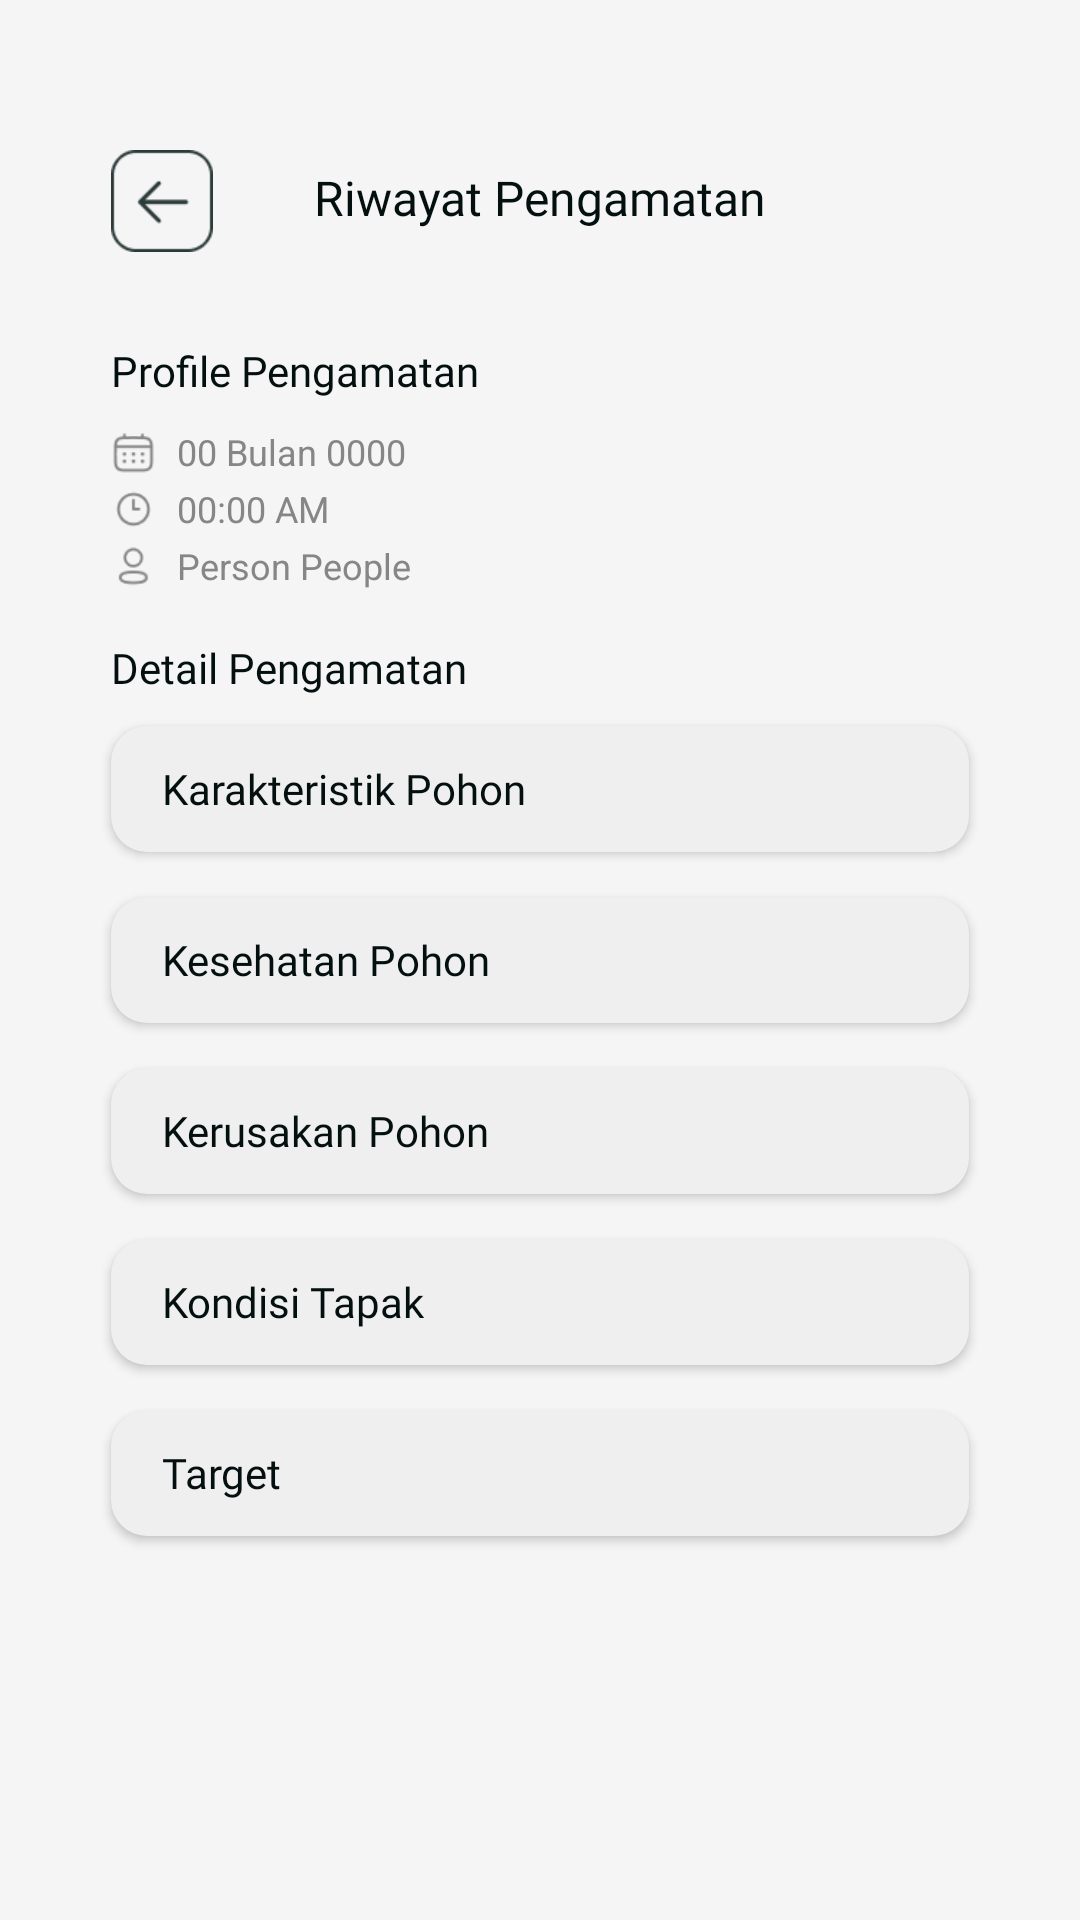

Named icons in this screenshot (1080×1920) and their centers, (x=x, y=y):
back: (x=162, y=201)
calendar: (x=133, y=452)
clock: (x=133, y=509)
